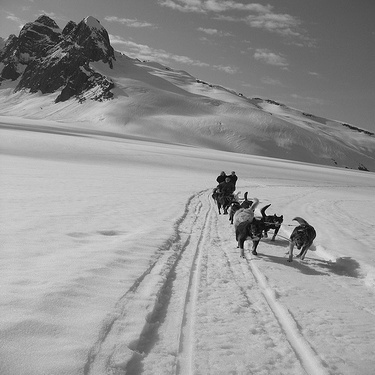dog: (284, 216, 317, 263), (232, 217, 264, 254), (232, 194, 259, 235), (256, 200, 281, 244), (203, 186, 230, 217), (224, 187, 240, 223), (239, 187, 254, 210)
